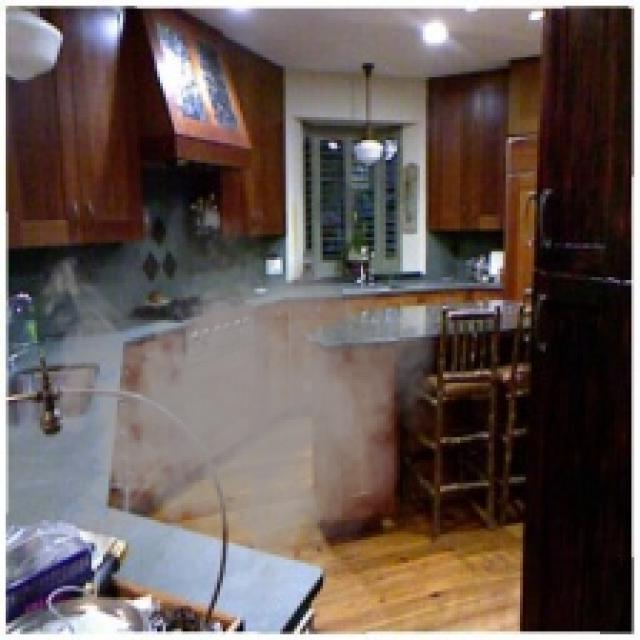Smoke: (28, 194, 443, 617)
